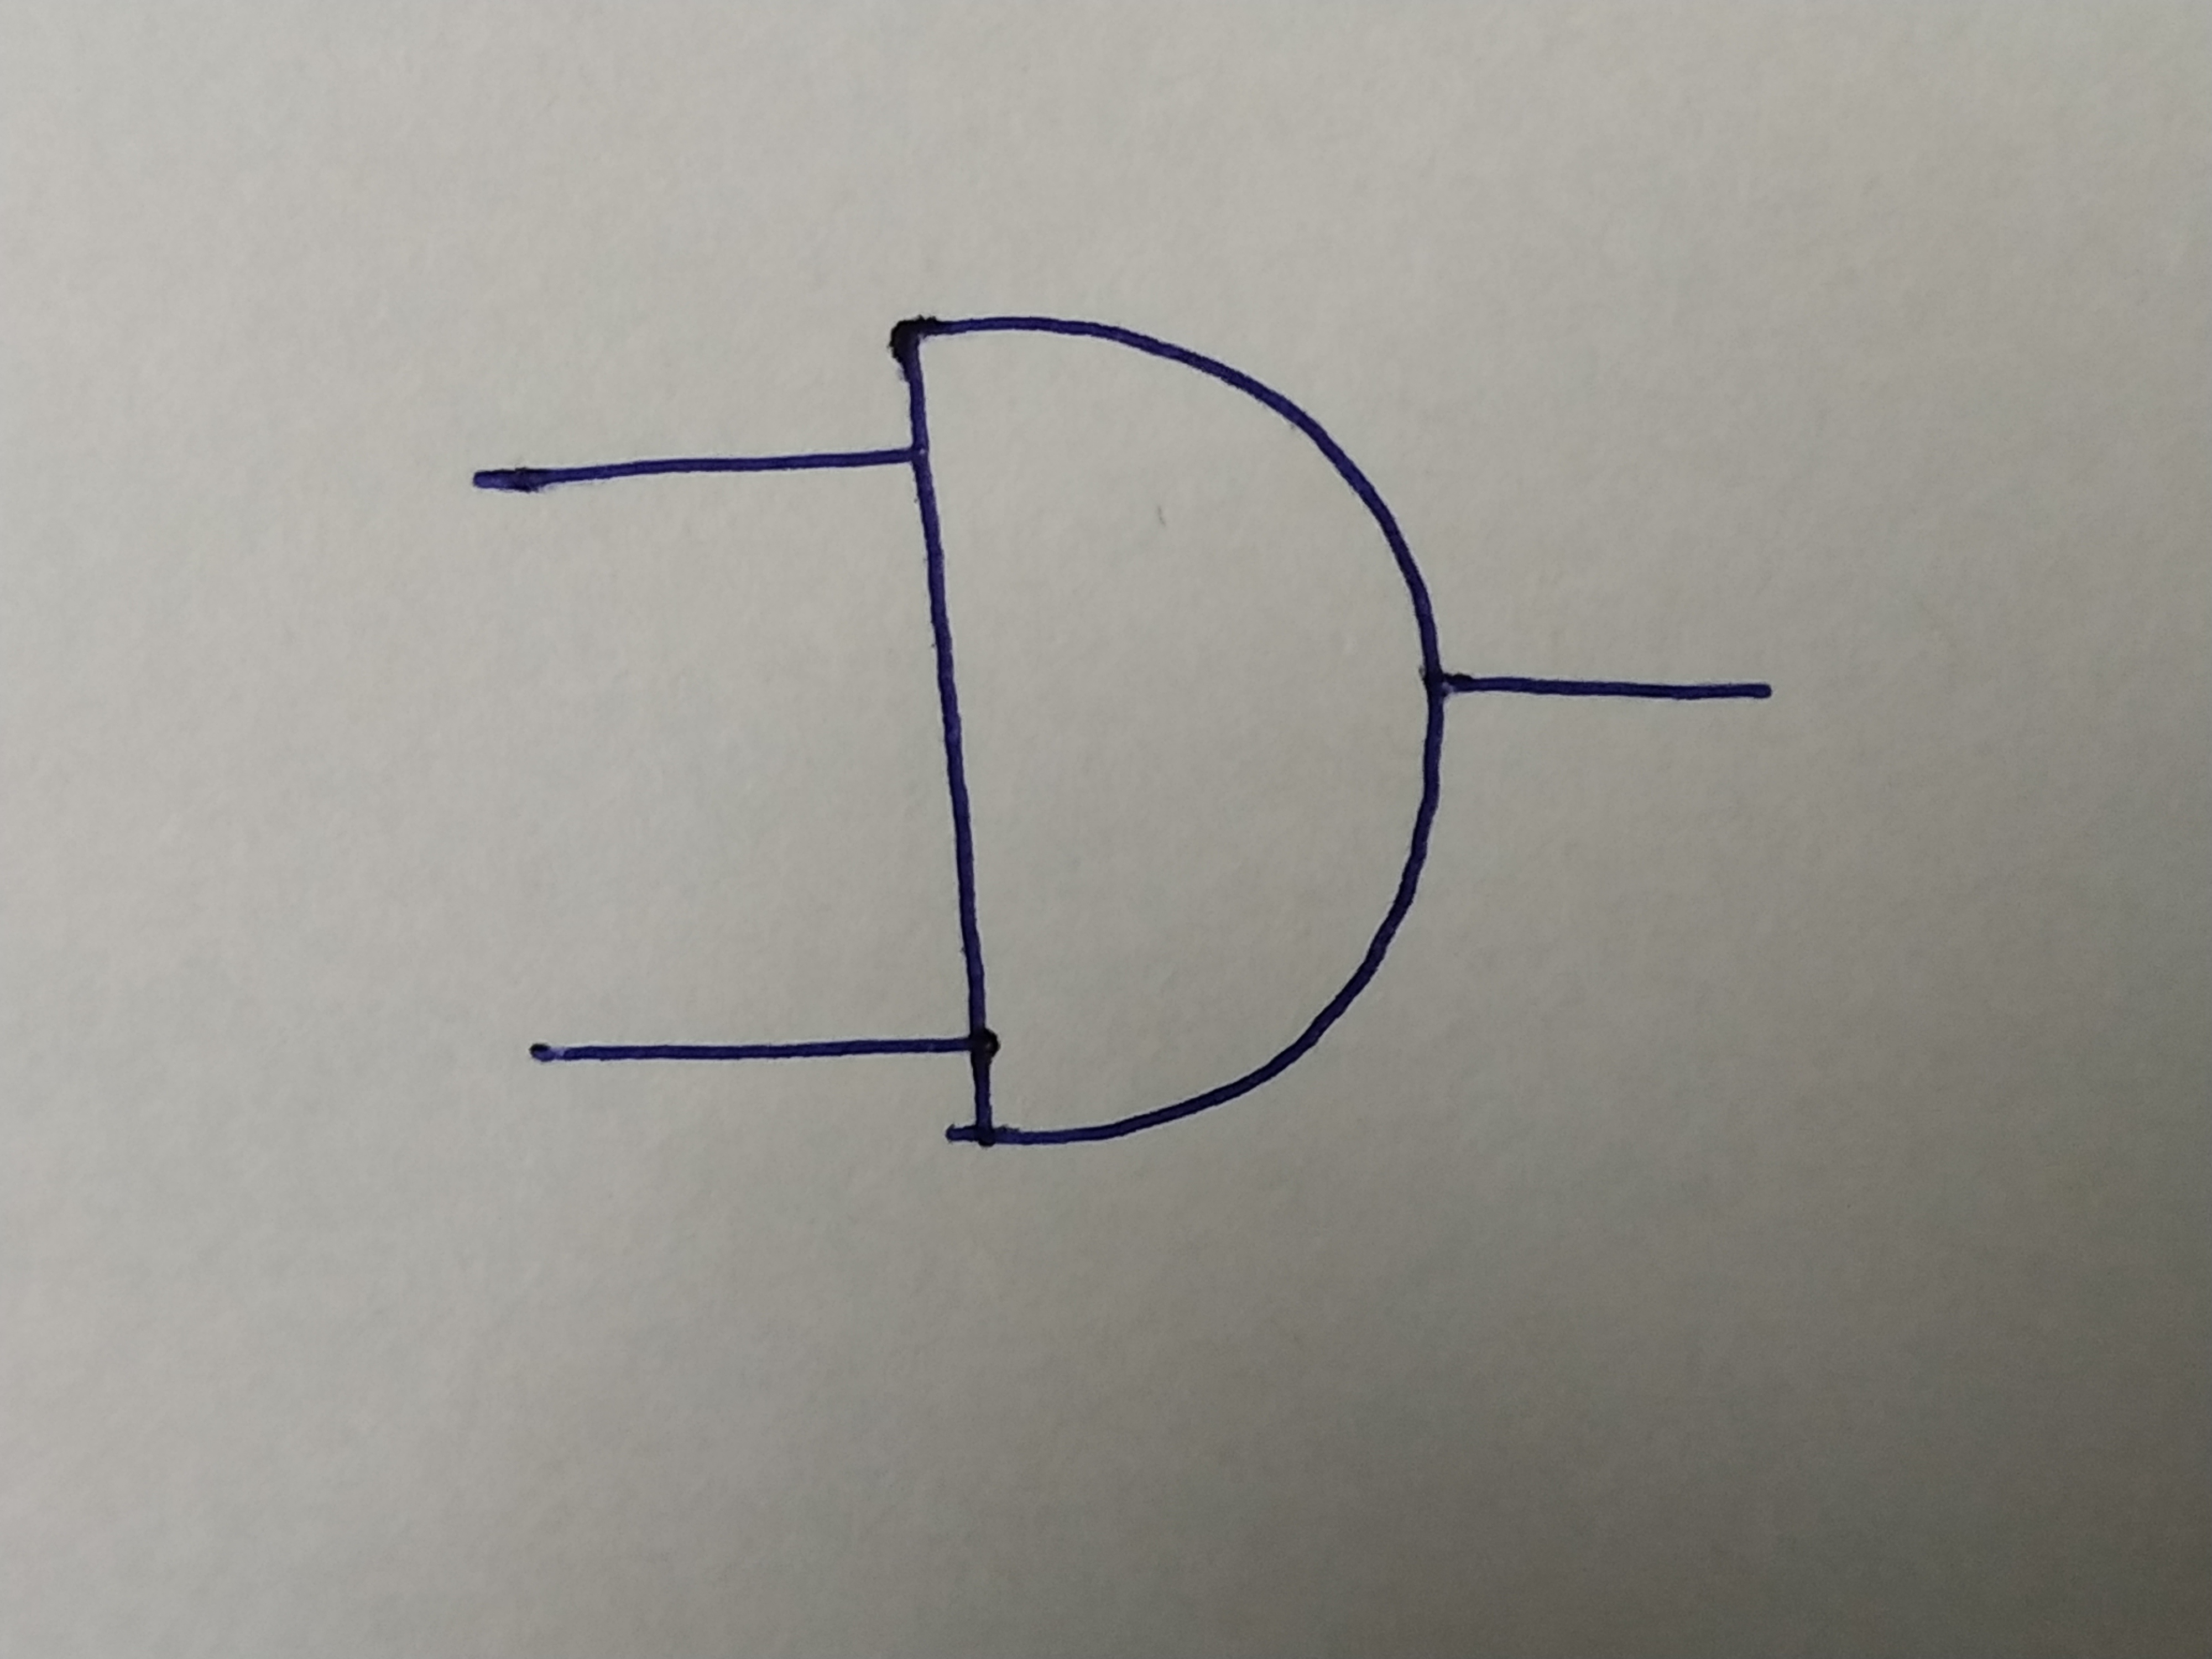and: (906, 308, 1453, 1148)
